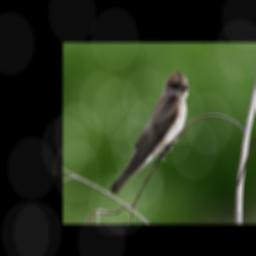Swallow: (107, 71, 190, 196)
